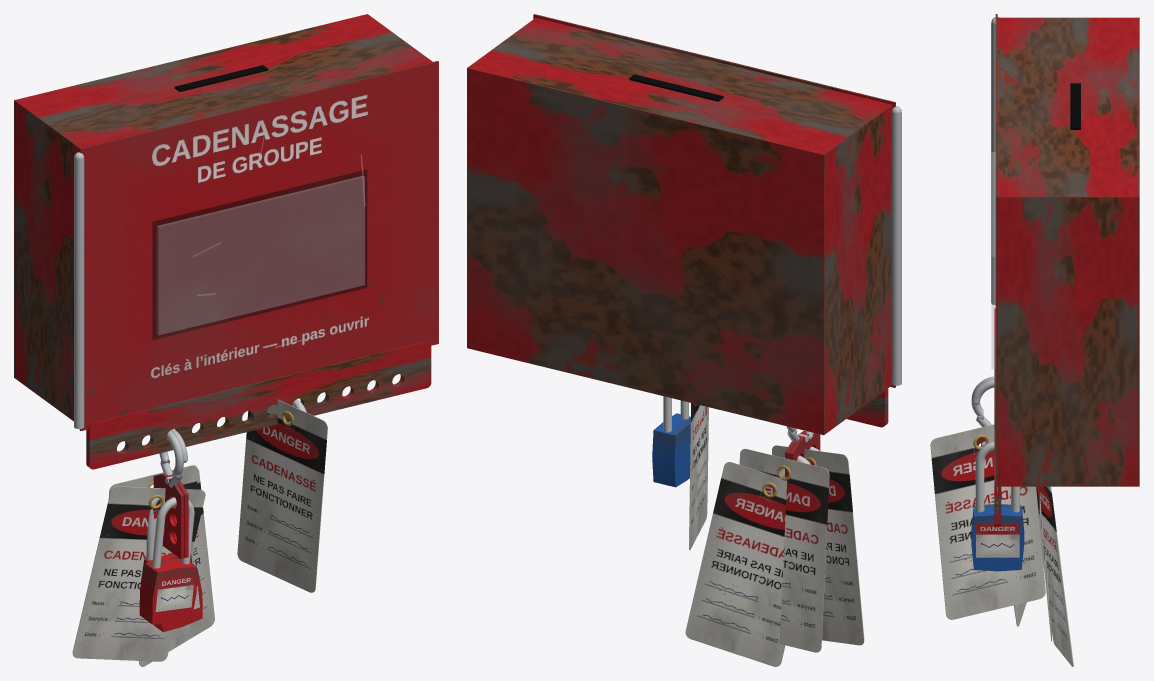
The model's file is SM_Cadenassage_Ensemble.glb.
The picture shows the model from 3 angles, left to right: view 1: azimuth 30°, elevation 25°; view 2: azimuth 150°, elevation 25°; view 3: azimuth 270°, elevation 25°; orthographic projection. The views are drawn at different scales.
Parts seen in each view (by area): view 1: SM_Cadenassage_Ensemble; view 2: SM_Cadenassage_Ensemble; view 3: SM_Cadenassage_Ensemble.
Boxes of the visible parts, x1,y1,x2,y2 form: SM_Cadenassage_Ensemble: (14,14,438,666); SM_Cadenassage_Ensemble: (467,14,901,666); SM_Cadenassage_Ensemble: (930,14,1139,666).
Bounding box in the file's own units: 0.3136 × 0.462 × 0.1499.
13 materials, 7 textured.
